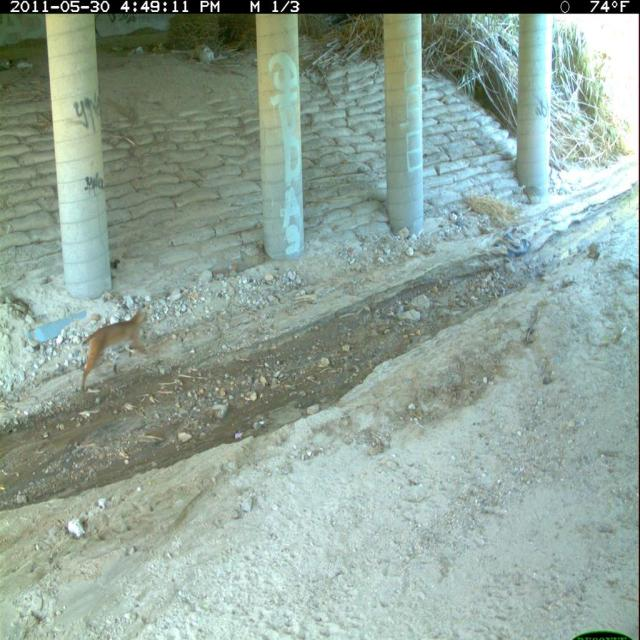bobcat: (79, 302, 157, 399)
